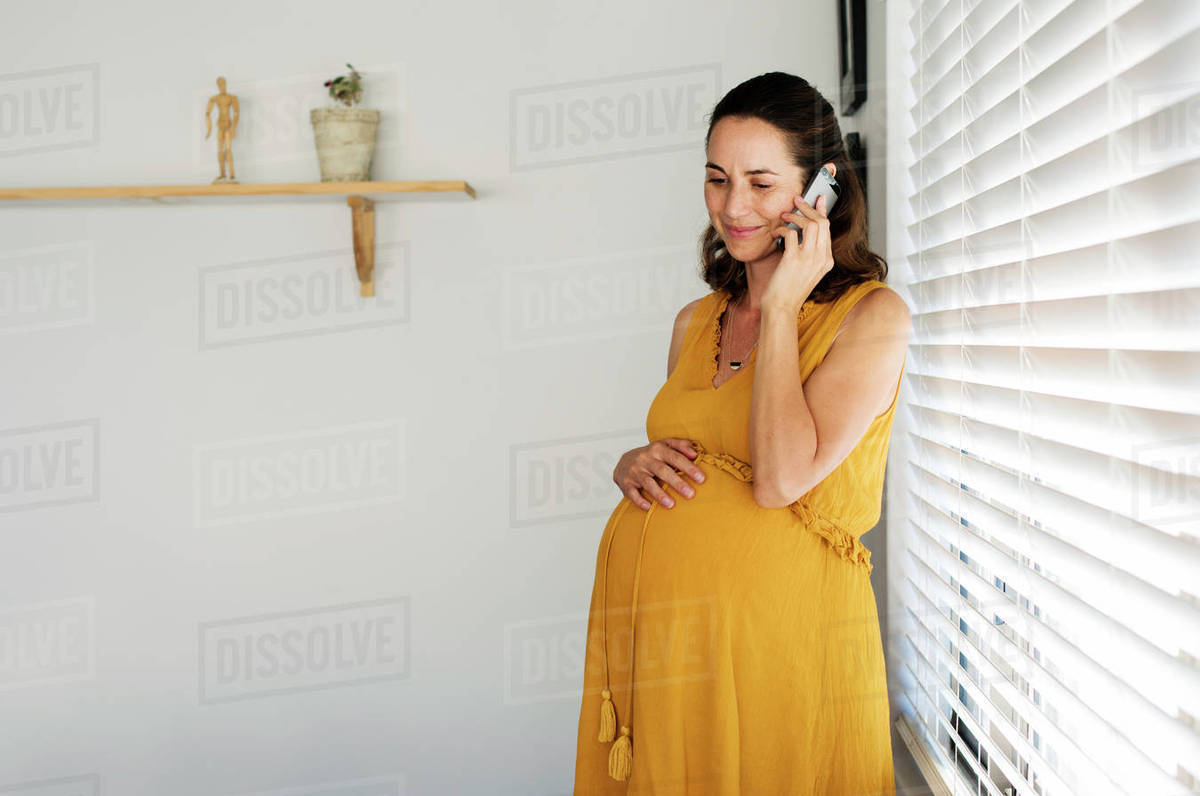phone: (768, 165, 844, 259)
talk: (696, 158, 860, 297)
